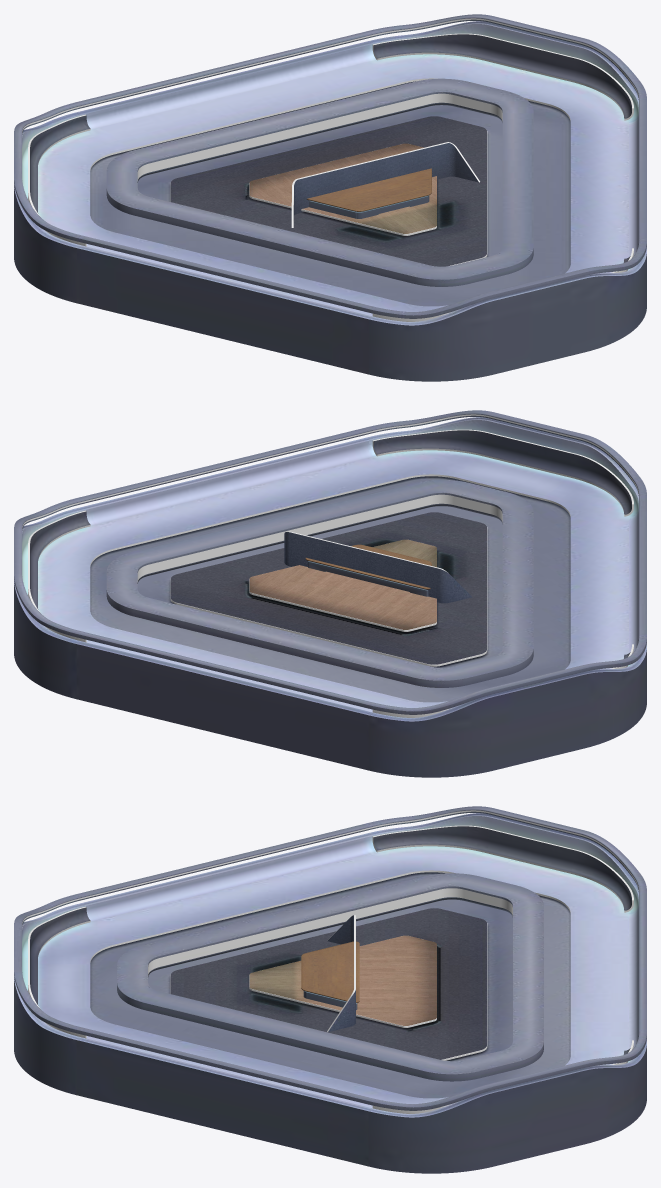
Rendered from environmentDesk.gltf.
3 views of the same model, one above another, from view 1: azimuth 30°, elevation 25°; view 2: azimuth 150°, elevation 25°; view 3: azimuth 270°, elevation 25° (orthographic).
Visible parts, largest first — view 1: floorBase_geo.002, ceiling_geo.002, backWall_geo, tableSurface_geo; view 2: floorBase_geo.002, ceiling_geo.002, backWall_geo, tableSurface_geo; view 3: floorBase_geo.002, ceiling_geo.002, tableSurface_geo, backWall_geo.
Boxes of the visible parts, x1,y1,x2,y2 form: floorBase_geo.002: (14,14,646,381); ceiling_geo.002: (106,78,533,286); backWall_geo: (291,142,479,227); tableSurface_geo: (306,168,431,218); floorBase_geo.002: (14,410,646,777); ceiling_geo.002: (106,479,533,687); backWall_geo: (284,531,472,603); tableSurface_geo: (305,544,431,596); floorBase_geo.002: (14,806,646,1173); ceiling_geo.002: (117,873,543,1081); tableSurface_geo: (301,941,359,1009); backWall_geo: (327,915,355,1031).
Size of the model in its own units: 565019 by 71975 by 516323.
3 materials, 3 textured.
